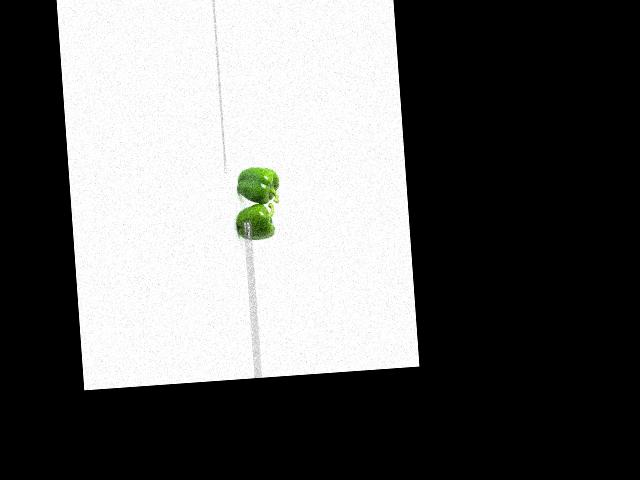bell_pepper: (229, 165, 283, 205)
